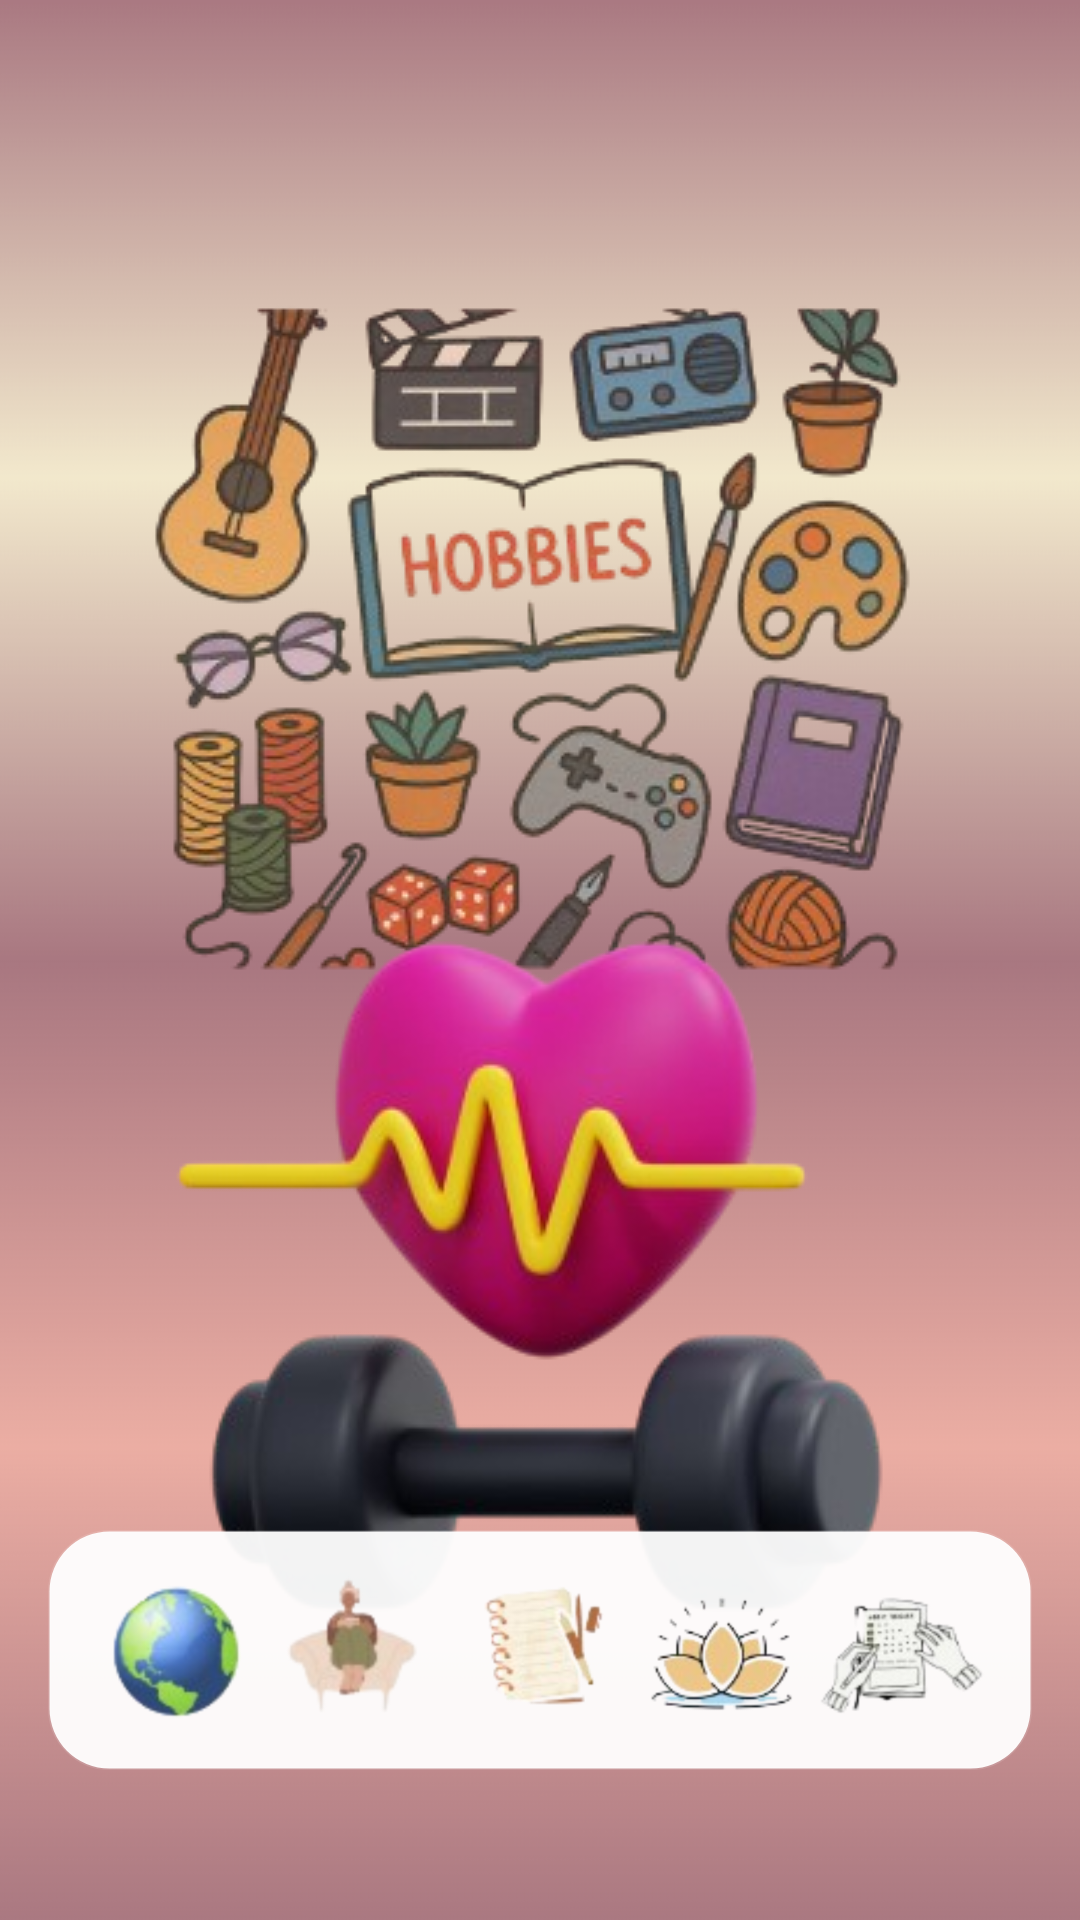

Where icons sit on this 1080 × 1920 app screen, as (x1, y1, x2, y2):
journal: (486, 1589, 602, 1704)
travels: (113, 1587, 239, 1716)
